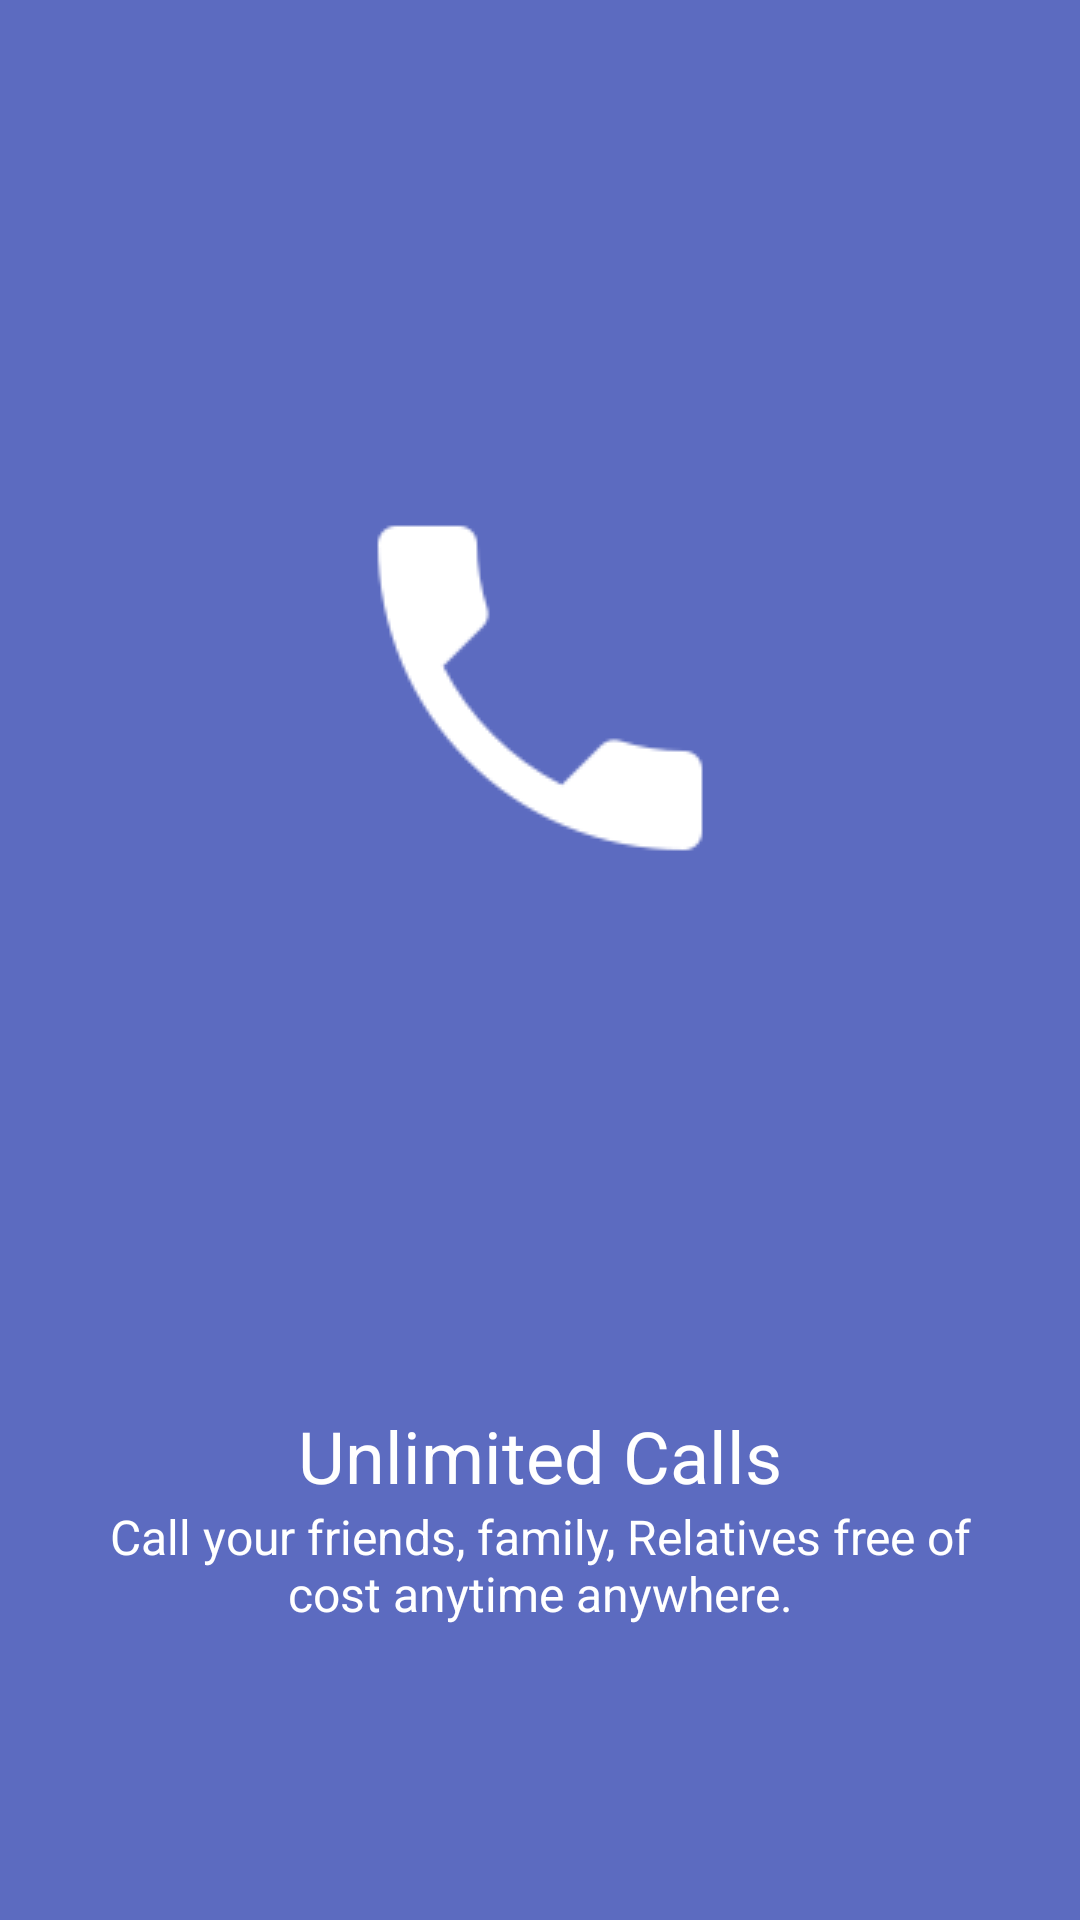

Screen size 1080px×1920px. Icon name, then its center in pixels as (x,y):
phone: (540,688)
